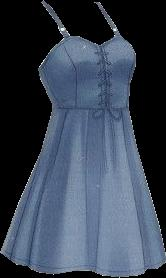Bodice: (38, 0, 135, 109)
Hemline: (0, 250, 165, 277)
Neckline: (43, 1, 116, 47)
Skirt: (0, 109, 165, 276)
Waistline: (51, 107, 128, 111)
